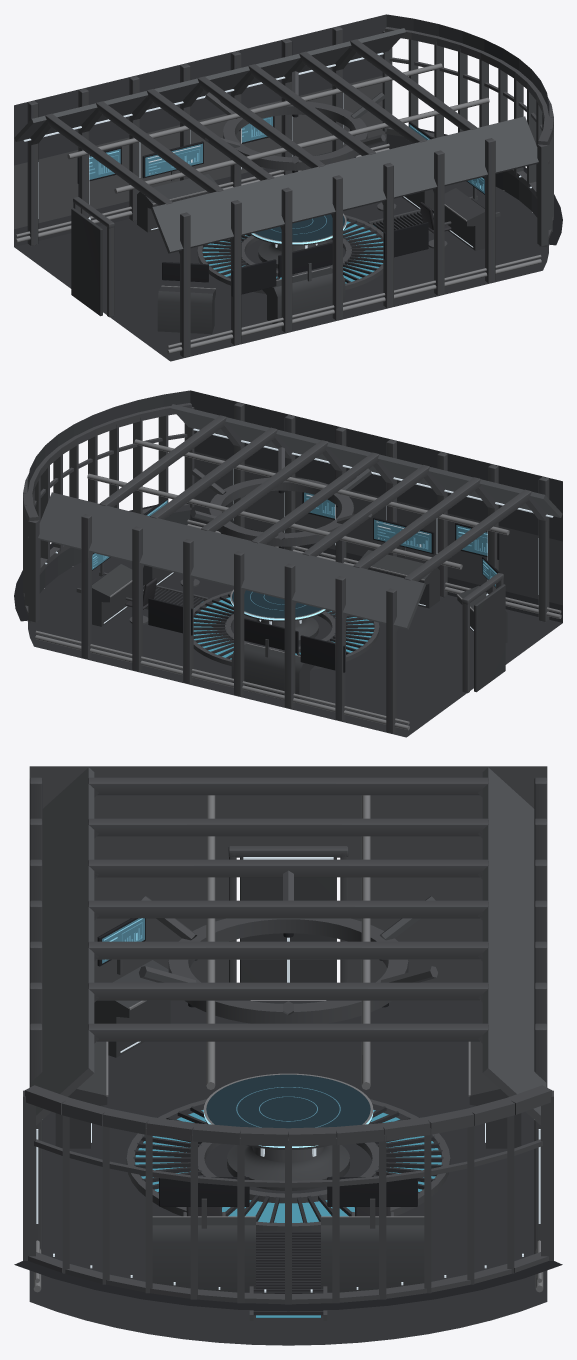
The model's file is bridge.glb.
3 renders of one model, top to bottom at view 1: azimuth 30°, elevation 25°; view 2: azimuth 150°, elevation 25°; view 3: azimuth 270°, elevation 25°, orthographic. The views are drawn at different scales.
Visible parts, largest first — view 1: room, window_frame, console_3, console_5, console_4, console_1, holotable, console_2; view 2: room, window_frame, console_4, console_3, console_2, holotable, console_5, console_1; view 3: room, window_frame, holotable, console_1, console_2, console_5, console_3, console_4.
Boxes of the visible parts, left/top/right/bottom form: room: left=14, top=14, right=548, bottom=361; window_frame: left=382, top=14, right=562, bottom=247; console_3: left=262, top=242, right=345, bottom=327; console_5: left=157, top=262, right=215, bottom=334; console_4: left=137, top=141, right=218, bottom=232; console_1: left=444, top=177, right=484, bottom=250; holotable: left=250, top=213, right=346, bottom=268; console_2: left=402, top=122, right=433, bottom=209; room: left=28, top=390, right=562, bottom=737; window_frame: left=14, top=390, right=194, bottom=623; console_4: left=231, top=618, right=314, bottom=703; console_3: left=358, top=517, right=439, bottom=608; console_2: left=92, top=553, right=132, bottom=626; holotable: left=230, top=589, right=326, bottom=644; console_5: left=456, top=556, right=507, bottom=642; console_1: left=143, top=498, right=174, bottom=585; room: left=29, top=766, right=547, bottom=1345; window_frame: left=14, top=1085, right=562, bottom=1311; holotable: left=203, top=1073, right=373, bottom=1190; console_1: left=152, top=1177, right=255, bottom=1292; console_2: left=321, top=1177, right=424, bottom=1292; console_5: left=94, top=918, right=170, bottom=1057; console_3: left=55, top=1041, right=108, bottom=1148; console_4: left=468, top=1041, right=521, bottom=1148.
Size of the model in its own units: 13.15 by 4 by 8.48.
